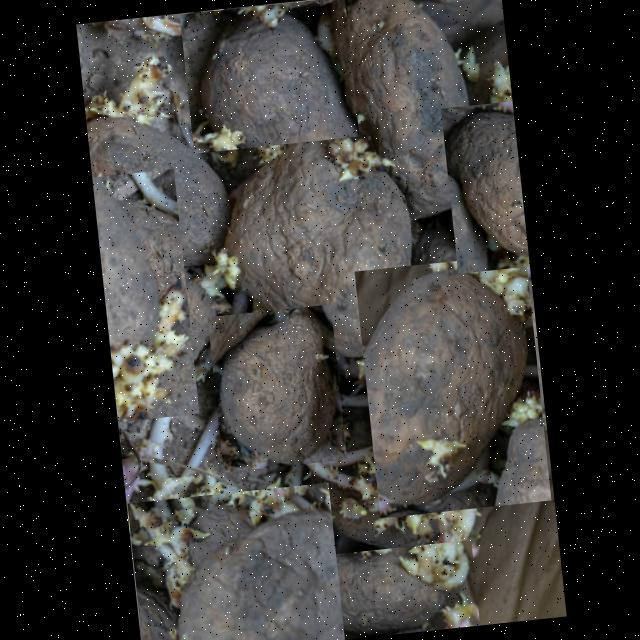Sprouted potato: (197, 112, 429, 376), (353, 253, 550, 518), (309, 0, 499, 233), (126, 482, 343, 640), (178, 0, 358, 153), (91, 168, 198, 422), (311, 434, 488, 573), (206, 304, 346, 472), (269, 539, 479, 640), (439, 100, 528, 274)
